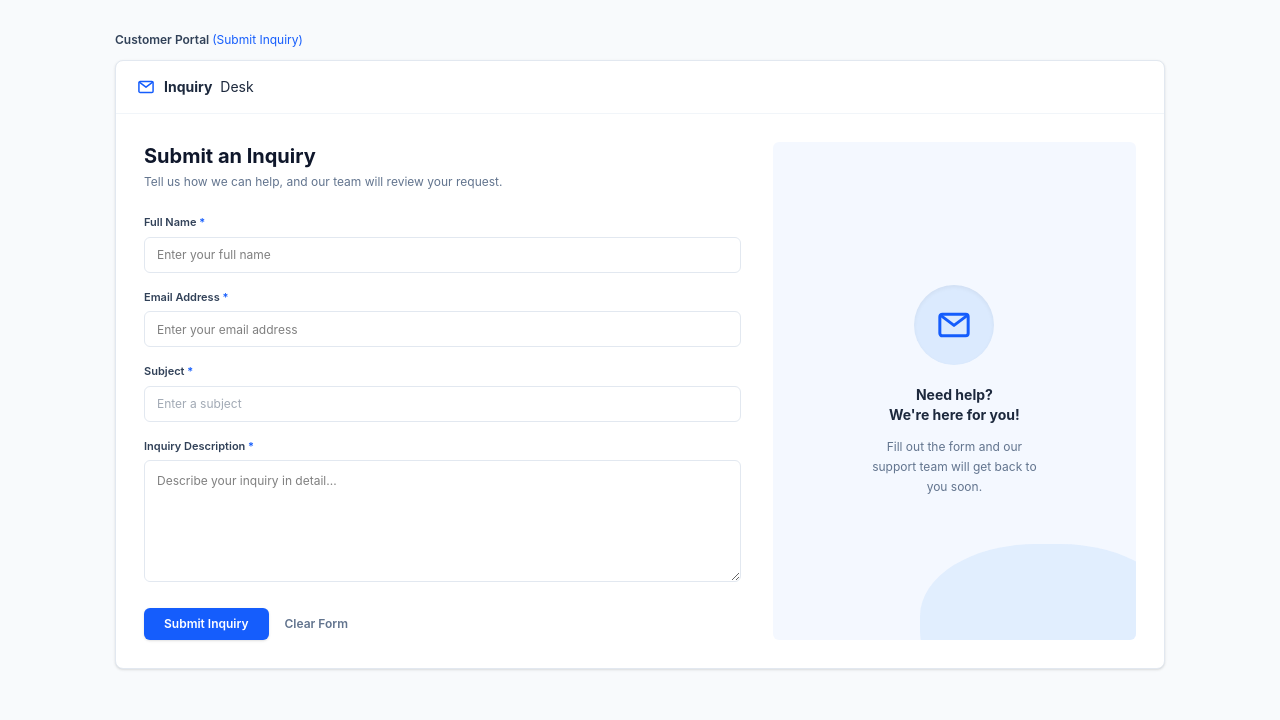
Test: CustomerPortal › submits a valid inquiry and displays its reference number
Type "Jane Customer" into the field labelled "Full Name *" at [442, 254], box 144,236 -> 741,272
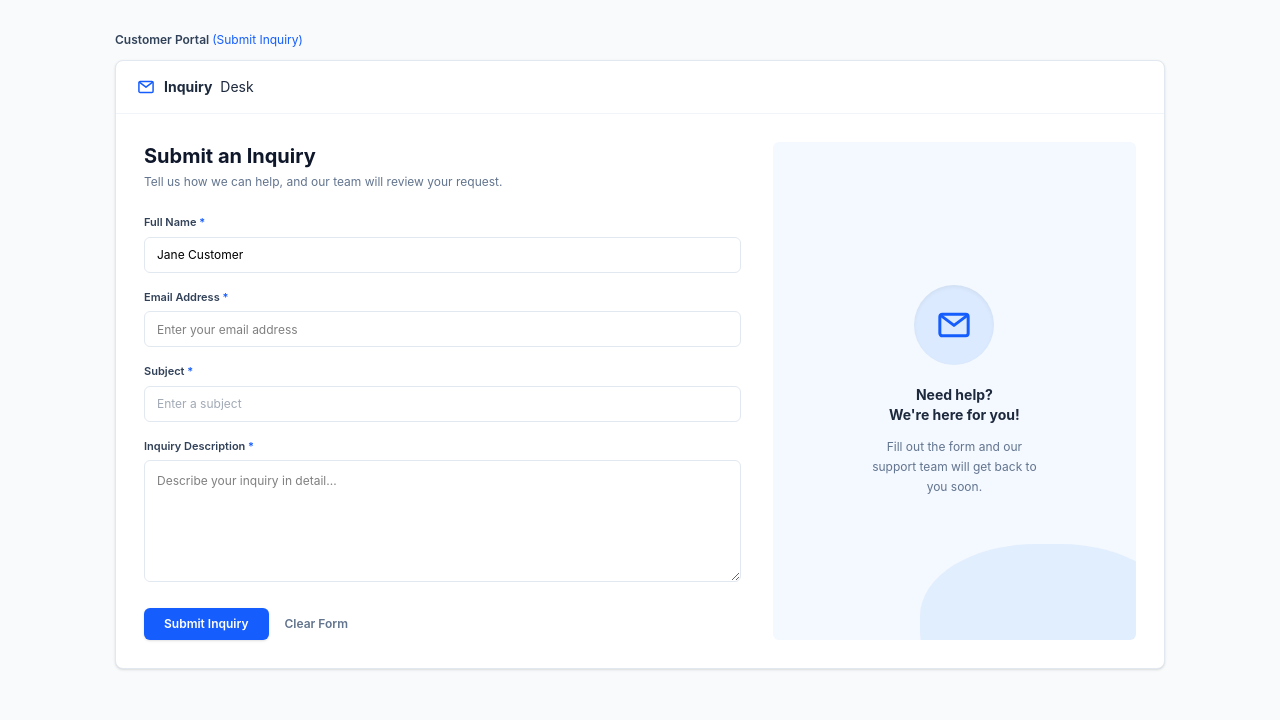
Type "jane@example.com" into the field labelled "Email Address *" at [442, 329], box 144,311 -> 741,347
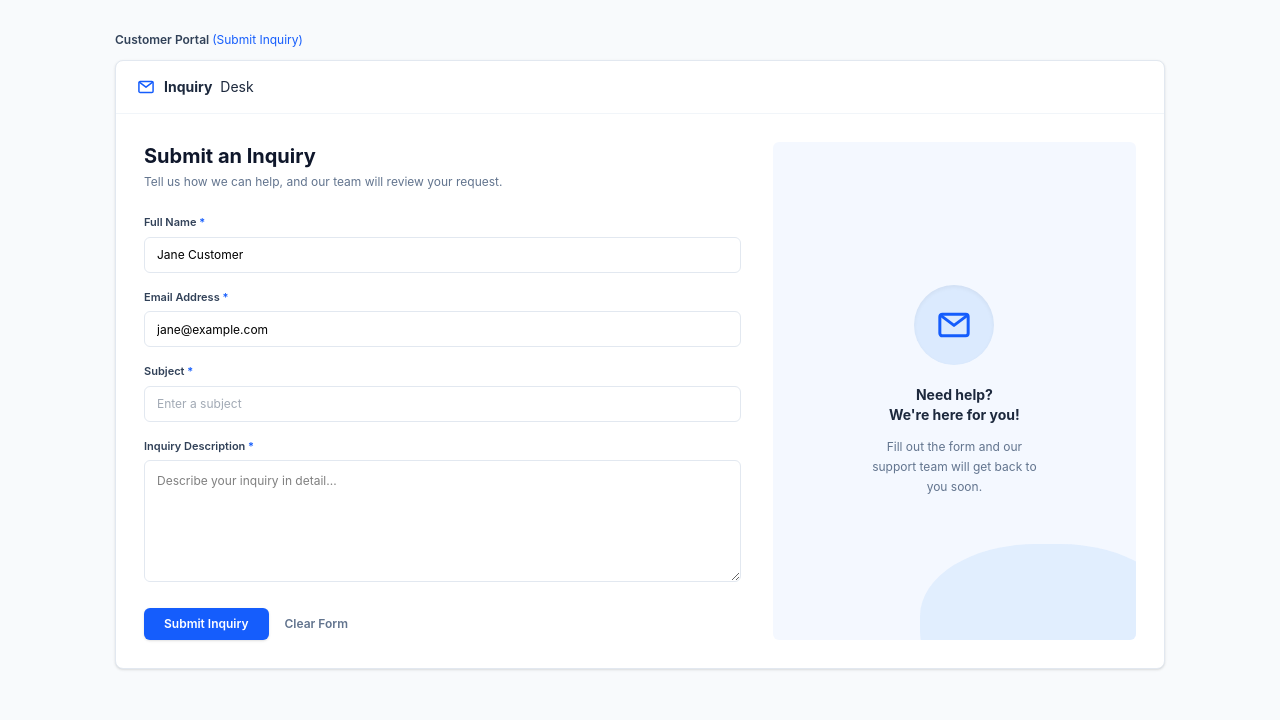
Type "Help with my order" into the field labelled "Subject *" at [442, 404], box 144,386 -> 741,422
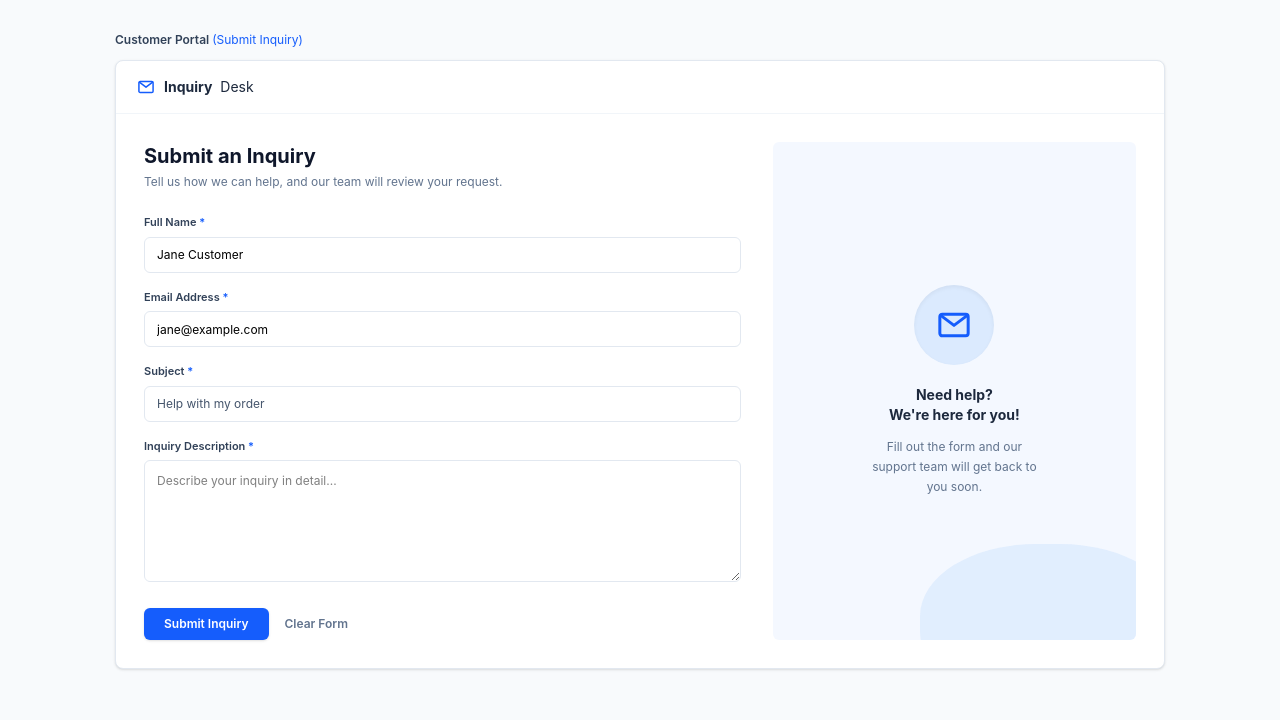
Type "I need help with my recent order." into the text box labelled "Inquiry Description *" at [442, 521], box 144,460 -> 741,582
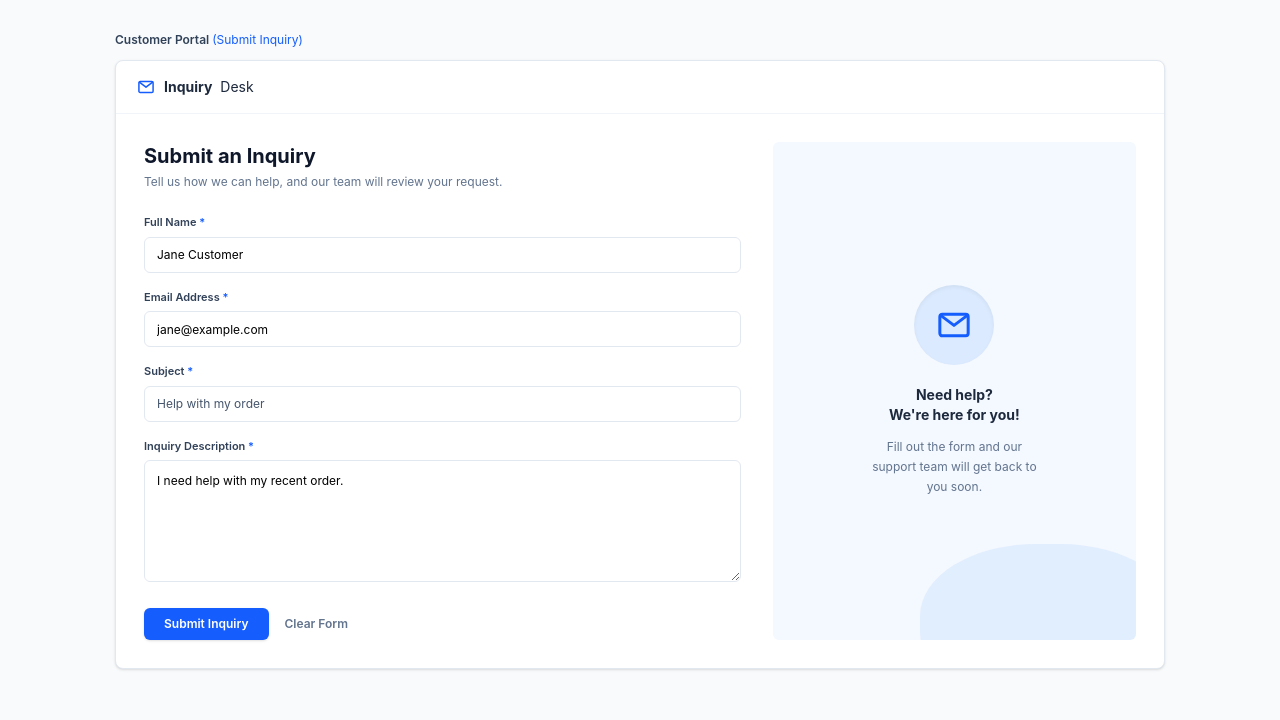
Click the button "Submit Inquiry" at [206, 624], box 144,608 -> 268,640
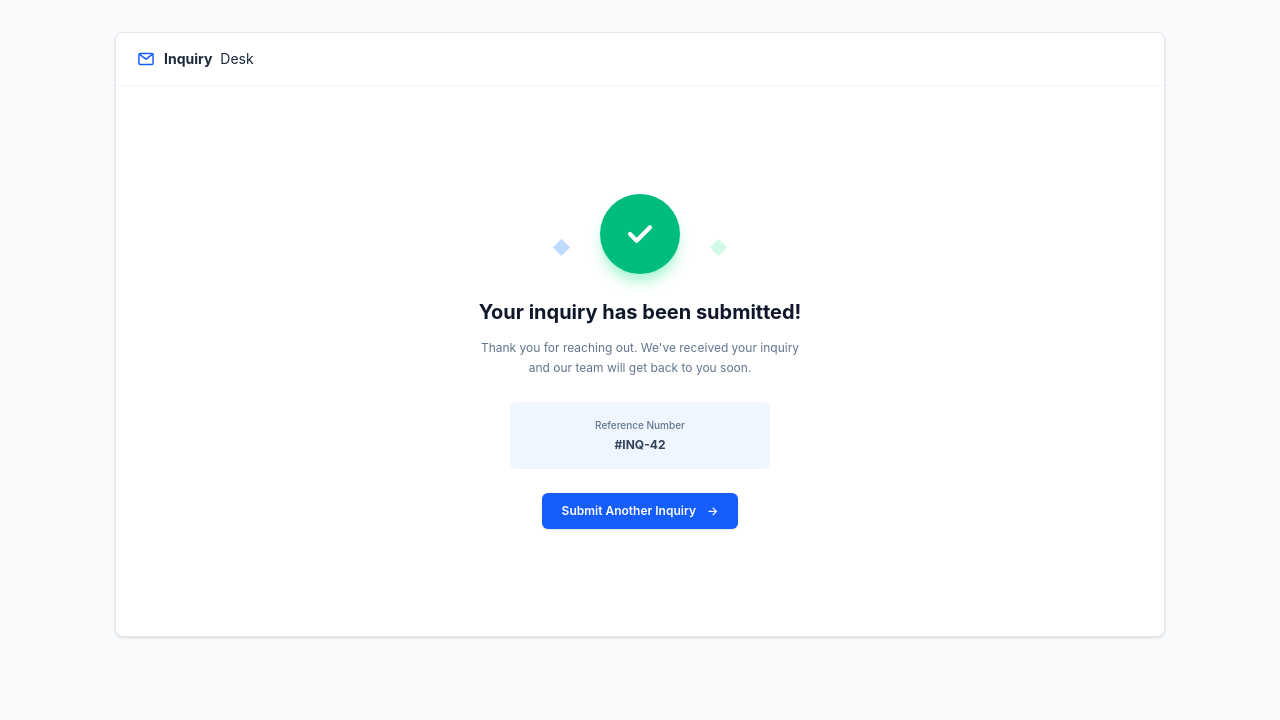
Expected: the heading "Your inquiry has been submitted!" is shown, 479,298 -> 801,326
Expected: the text "#INQ-42" is shown, 614,436 -> 665,452
